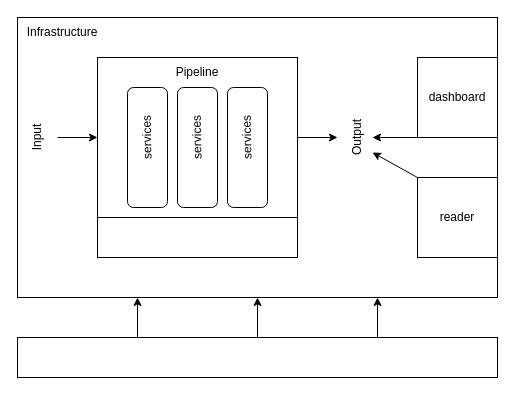
Image size: 515x395. Some labels were removed from this diagram. The shapes that lost their labels are listed below. From the top down, each one's box as (x1, y1, x2, y2) in pixels, then its label:
(96, 216, 298, 258): mammoth
(16, 336, 498, 378): CI pipeline
